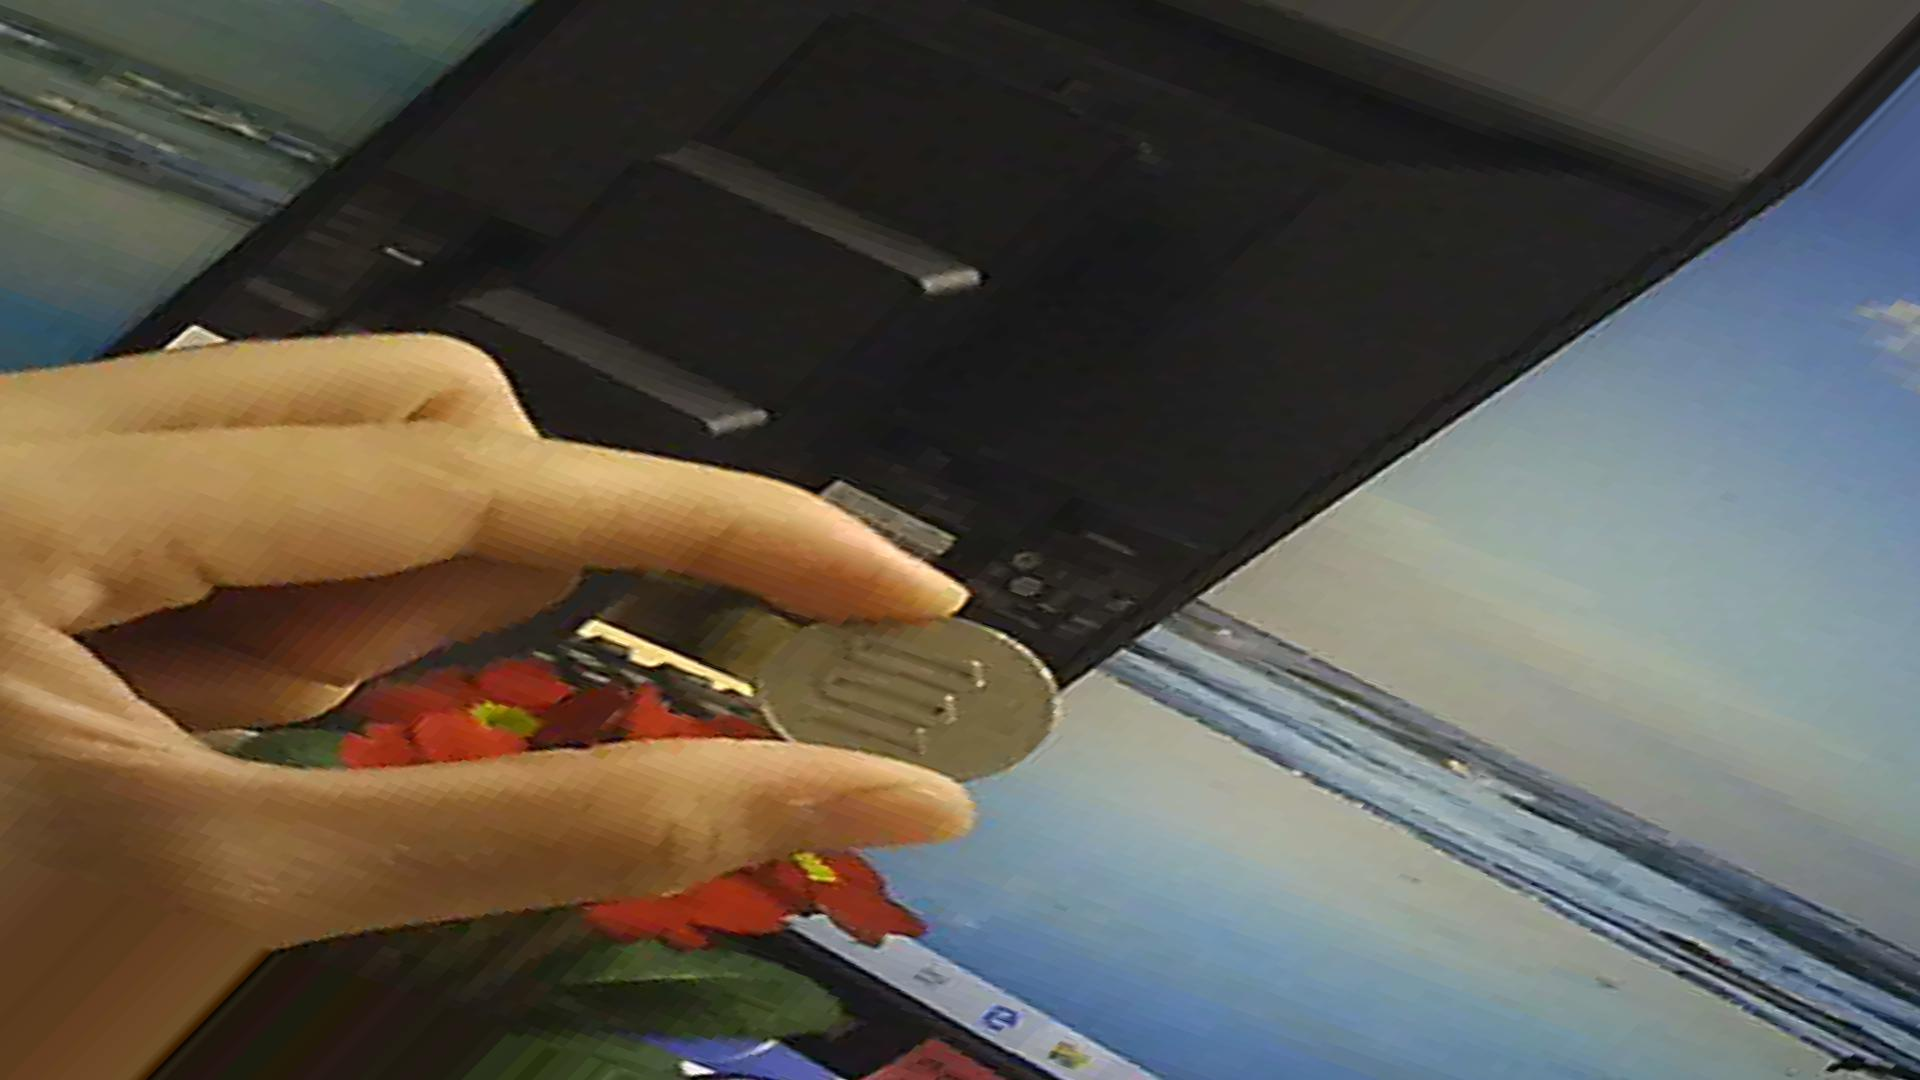100 Yen: (733, 607, 1091, 787)
